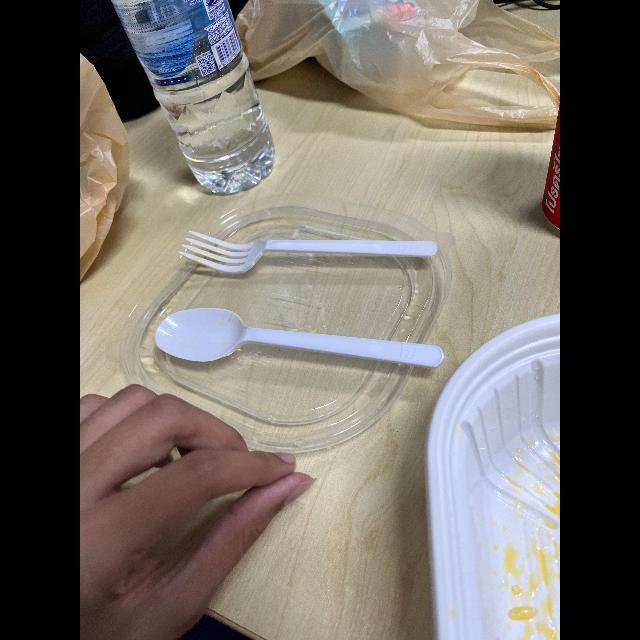plastic_cultery: (152, 294, 450, 386), (177, 215, 443, 288)
